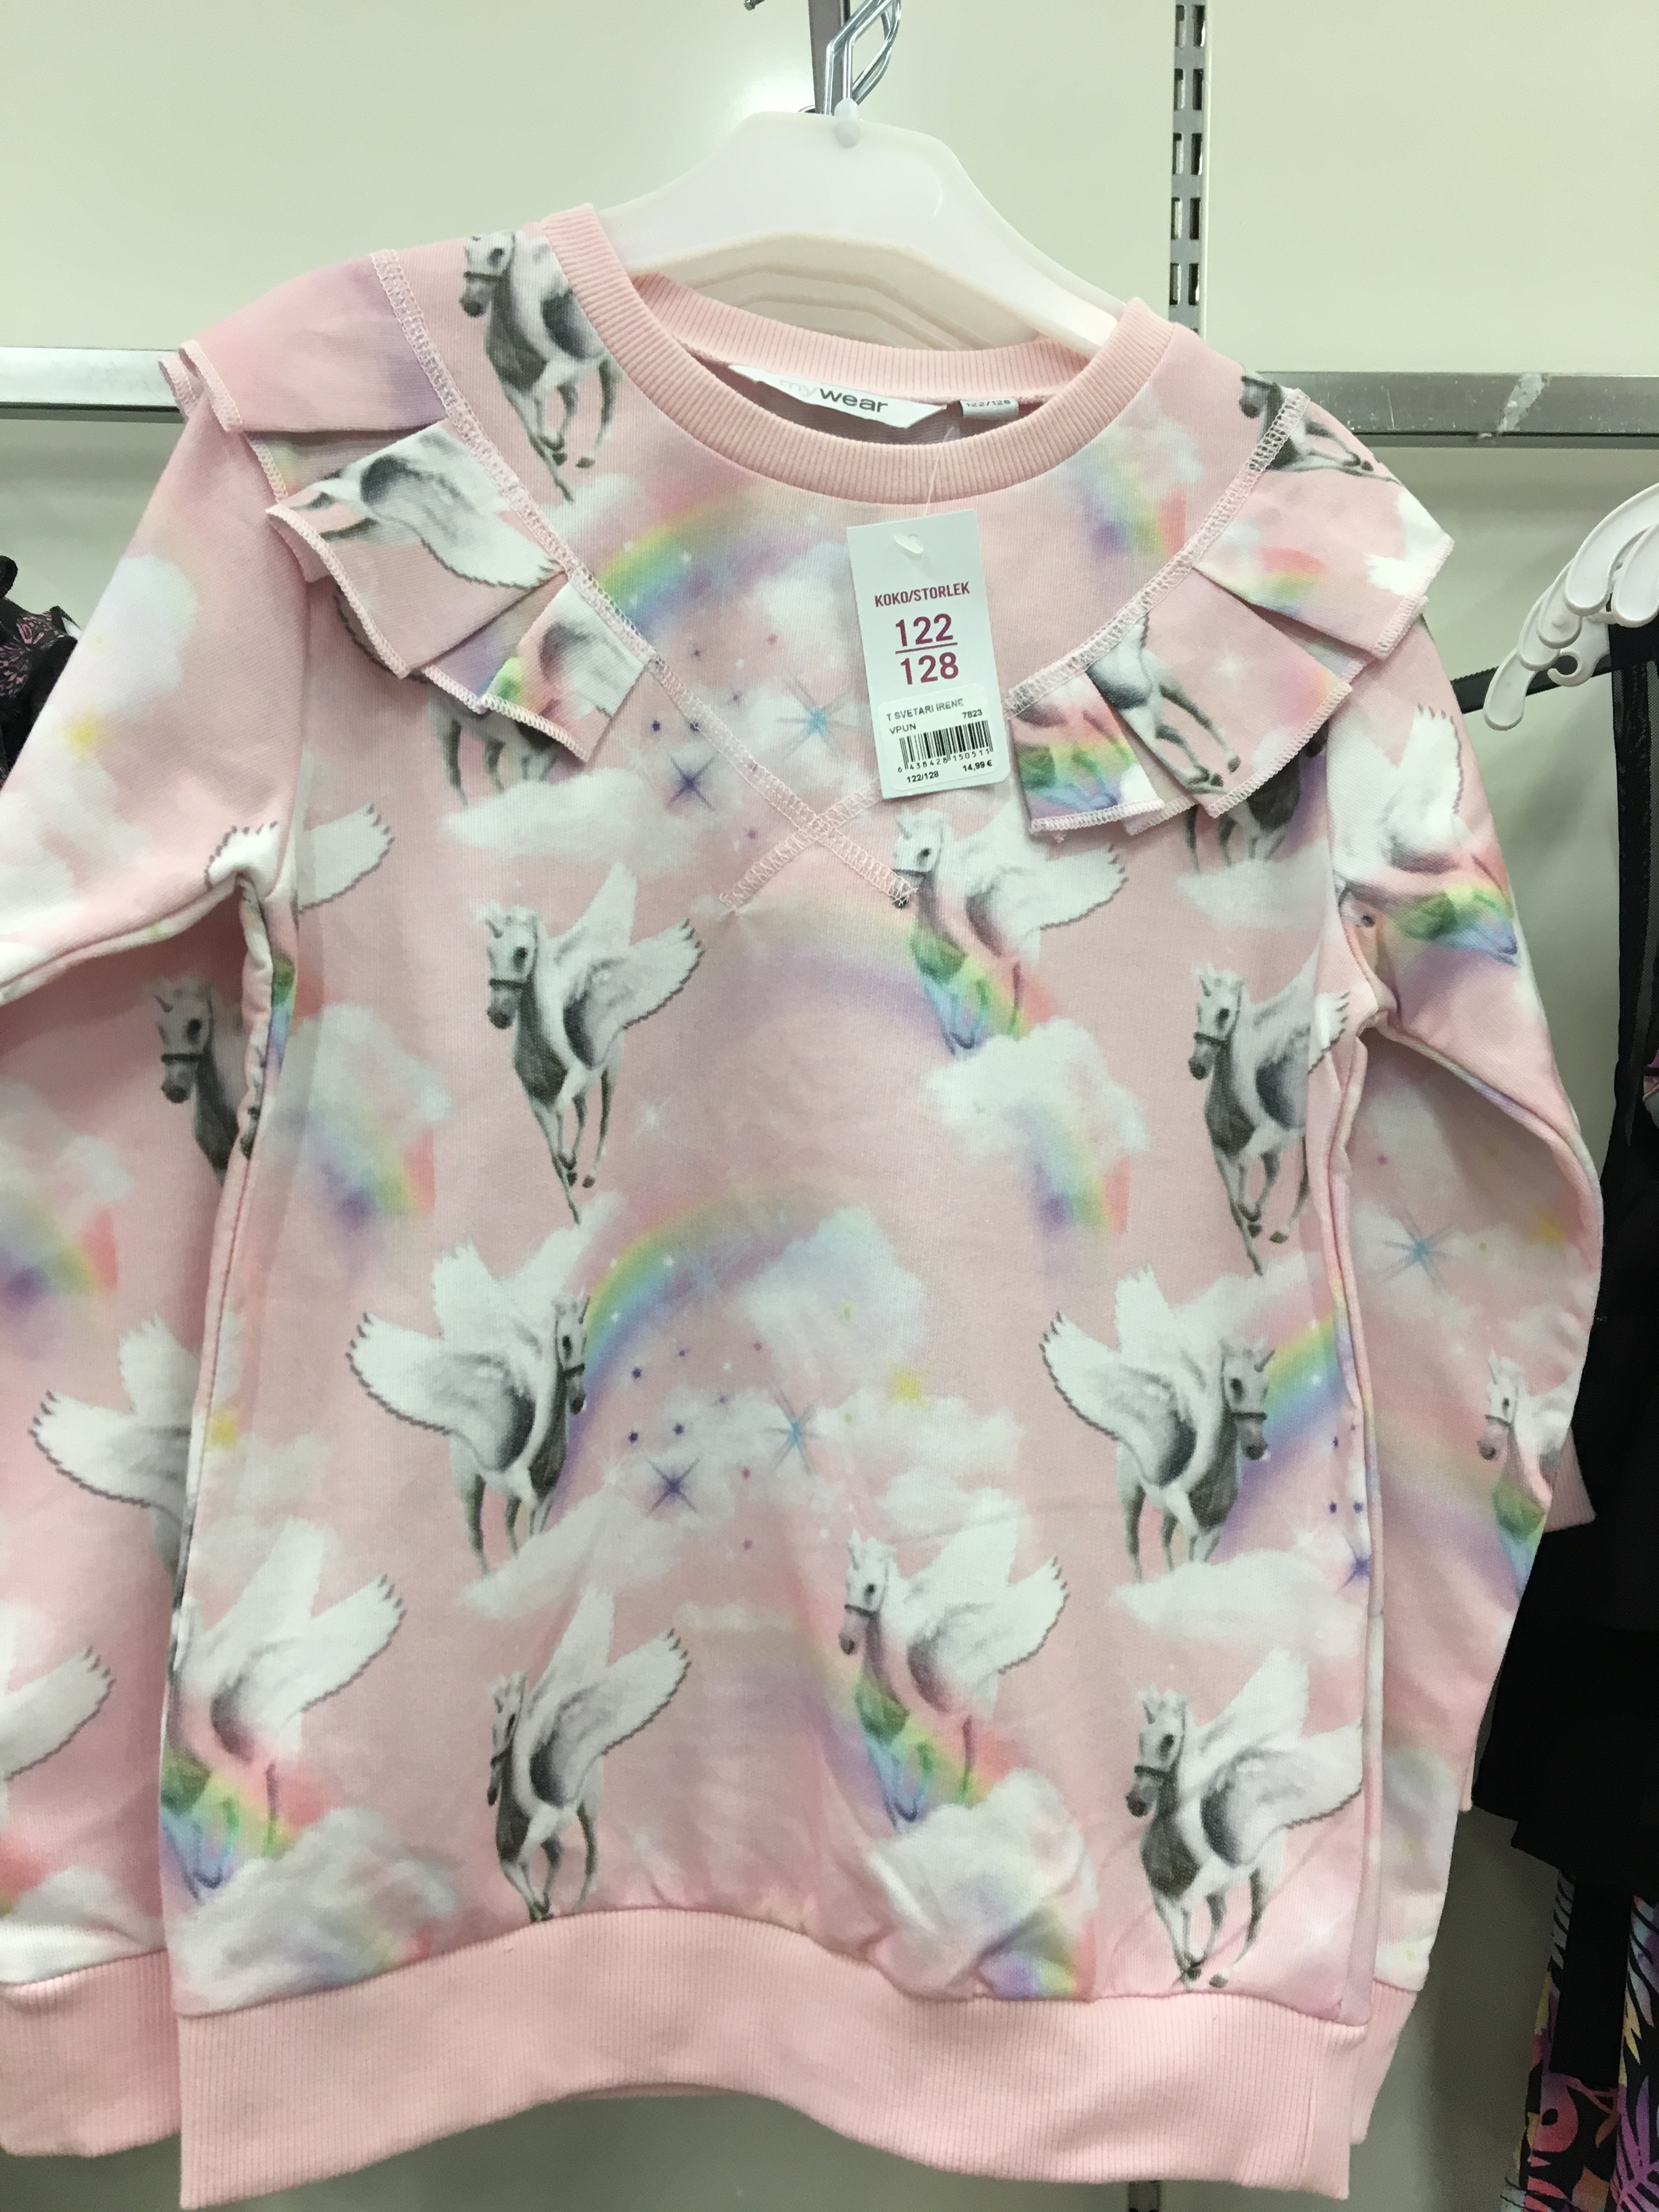clothes: (3, 221, 1595, 2188)
